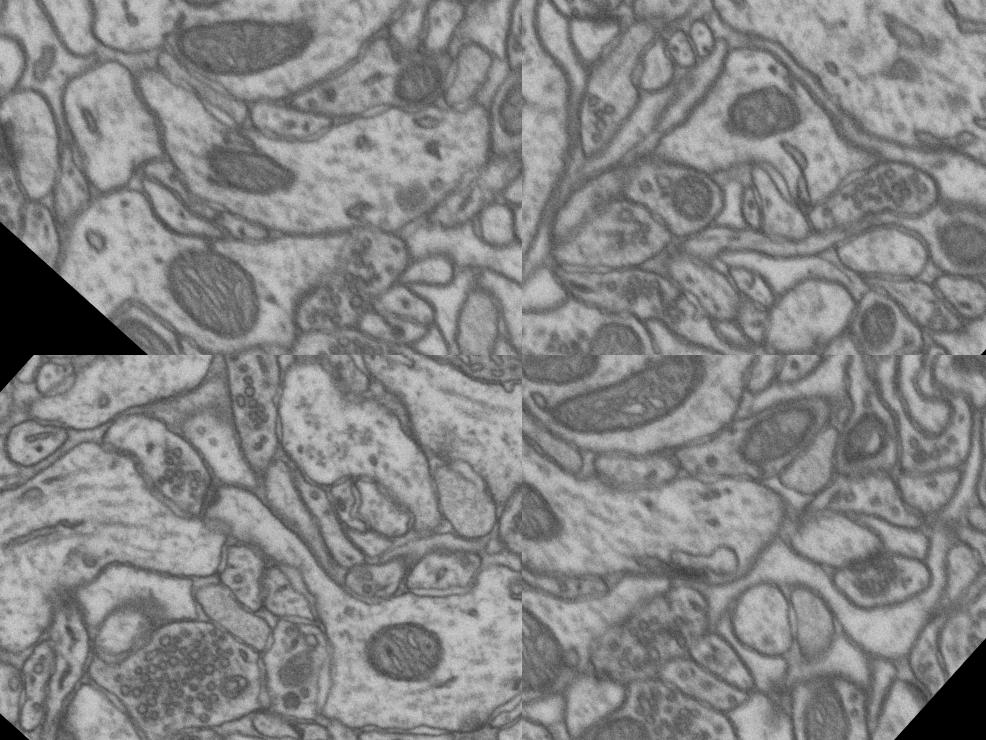mitochondria: (541, 355, 726, 485), (155, 0, 329, 130), (142, 219, 289, 355), (362, 355, 522, 458), (340, 586, 466, 713), (185, 113, 306, 232), (723, 56, 841, 172), (896, 178, 986, 317), (724, 375, 834, 488), (740, 303, 927, 355), (630, 150, 728, 248), (522, 571, 587, 717), (765, 663, 883, 740), (543, 291, 658, 355), (824, 400, 906, 483), (378, 41, 458, 122), (522, 454, 580, 563), (522, 355, 624, 416), (475, 44, 522, 148), (114, 302, 205, 355), (571, 697, 664, 740), (148, 0, 252, 33), (494, 453, 522, 569), (267, 339, 387, 355)
